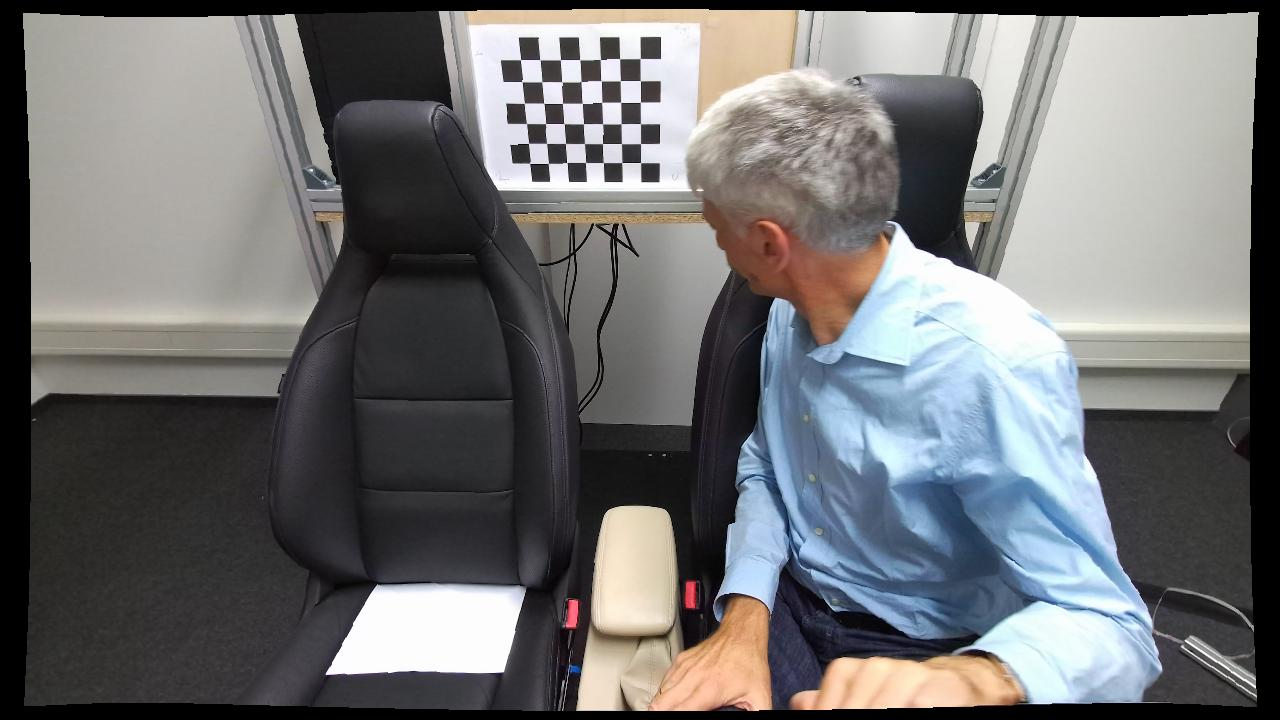Distracted: (673, 57, 1083, 700)
